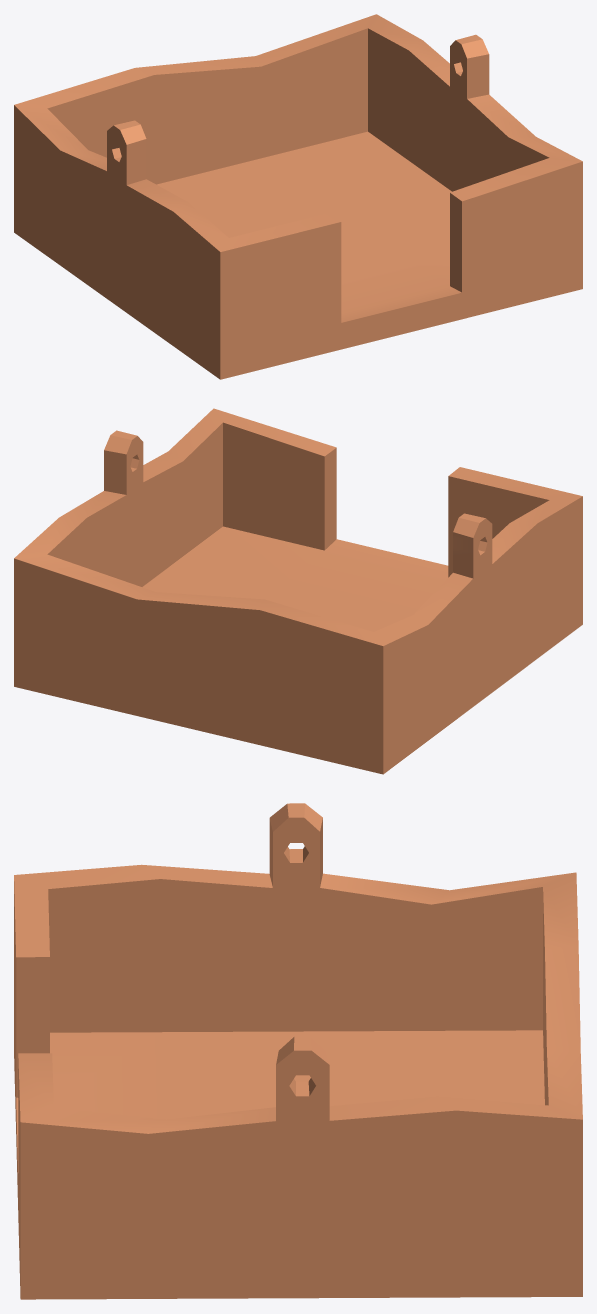
Rendered from transporte.fbx.
3 renders of one model, top to bottom at view 1: azimuth 30°, elevation 25°; view 2: azimuth 150°, elevation 25°; view 3: azimuth 270°, elevation 25°, orthographic. The views are drawn at different scales.
Visible parts, largest first — view 1: cajota; view 2: cajota; view 3: cajota.
Part boxes in pixels (x1,y1,x2,y2): cajota: (14, 14, 582, 379); cajota: (14, 408, 582, 774); cajota: (14, 803, 582, 1299).
Size of the model in its own units: 1621 by 748 by 1560.
